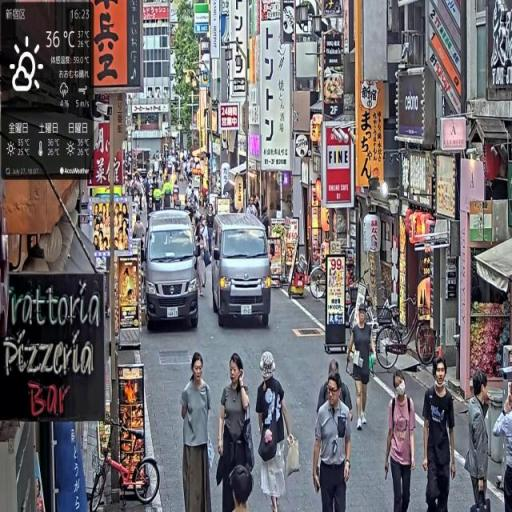person: (255, 349, 298, 512), (311, 372, 354, 512), (217, 354, 254, 511), (423, 357, 459, 512), (180, 351, 214, 512), (383, 372, 418, 512), (465, 371, 494, 512), (347, 299, 377, 434), (494, 375, 512, 512)
